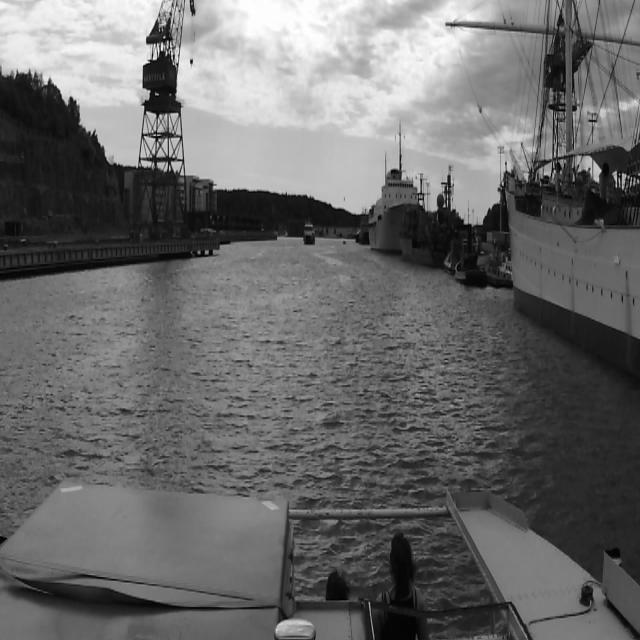ship: (506, 31, 639, 380), (405, 173, 442, 265), (366, 171, 404, 253), (444, 162, 468, 268), (455, 227, 487, 286), (489, 227, 511, 289), (302, 220, 316, 247)
